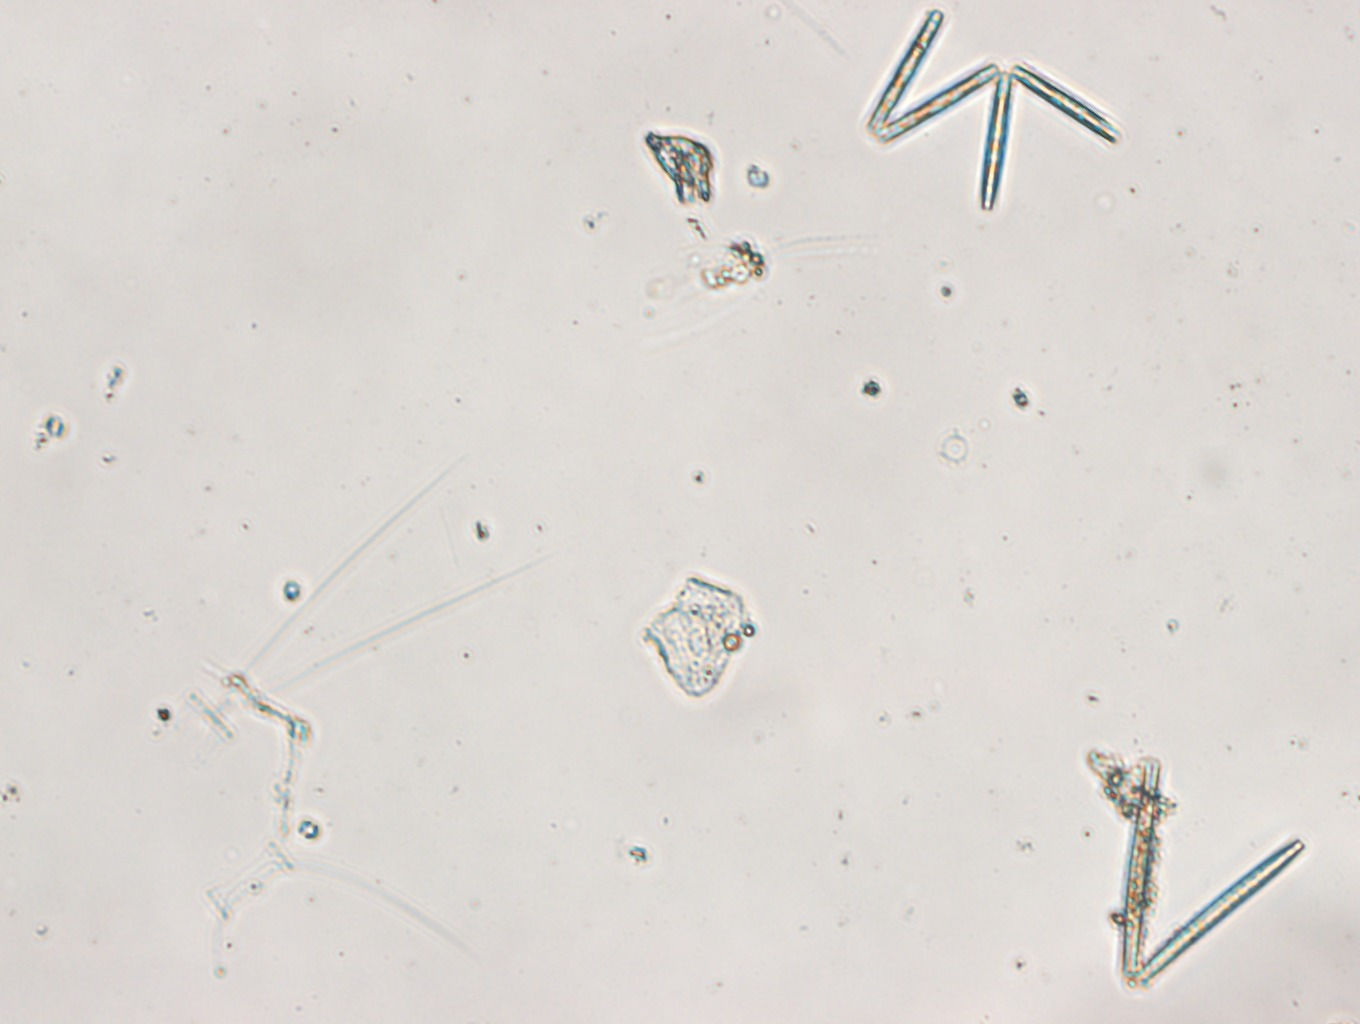thalassionema nitzschioides: (867, 10, 1119, 214), (1123, 757, 1306, 984)
